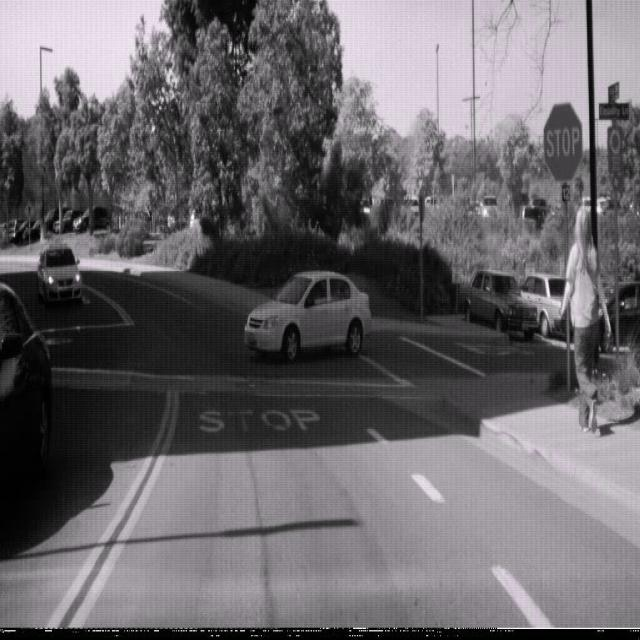stop_sign: (543, 100, 583, 182)
